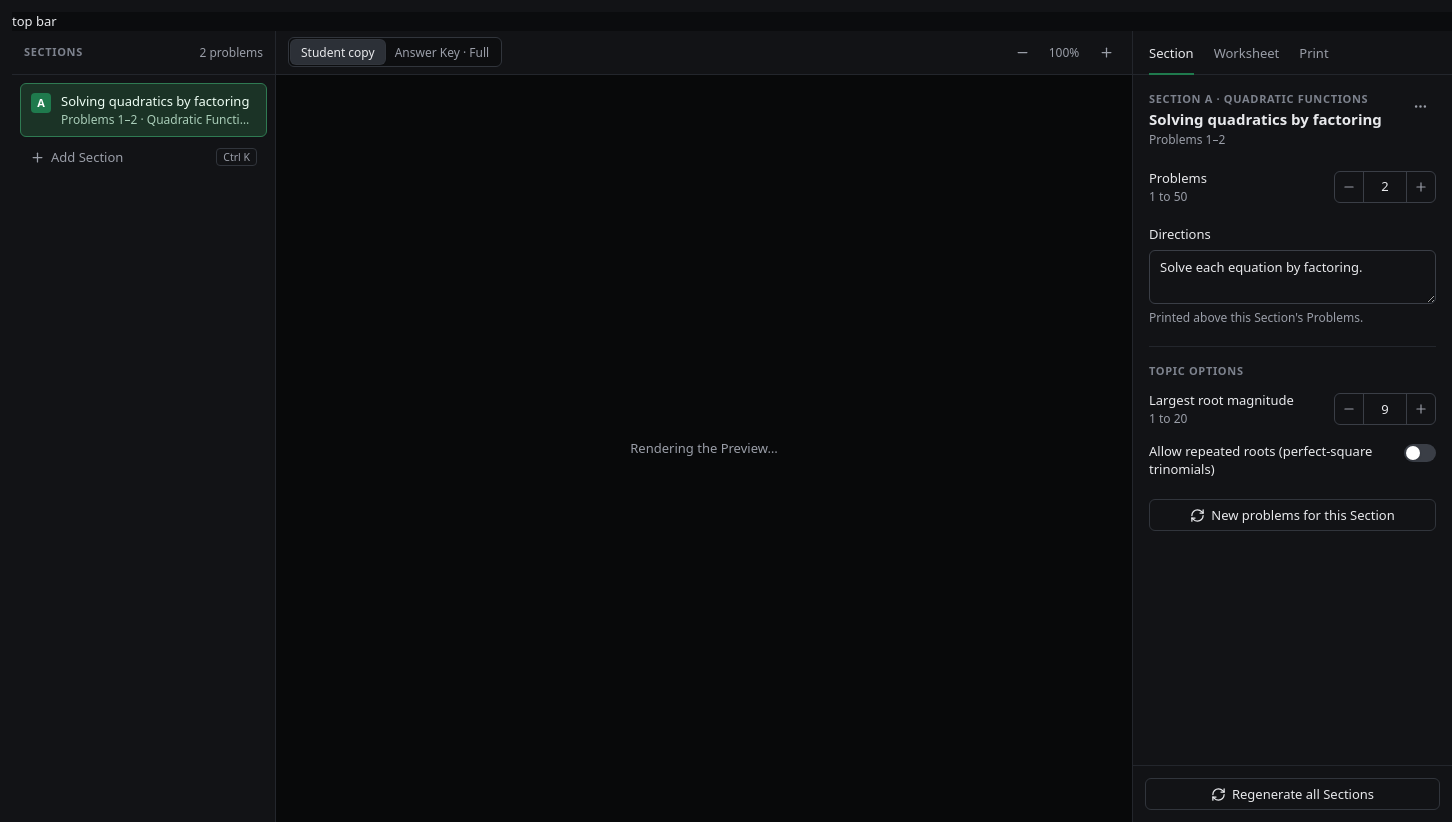
Test: Editor: Worksheet and Print tabs › keeps Section, Worksheet and Print settings on separate tabs
Expected: the tab "Section" is shown, [1149,44,1194,75]
Expected: the text "Question type" is not shown
Click the tab "Worksheet". click: [1246, 59]
box: [1214,44,1279,75]
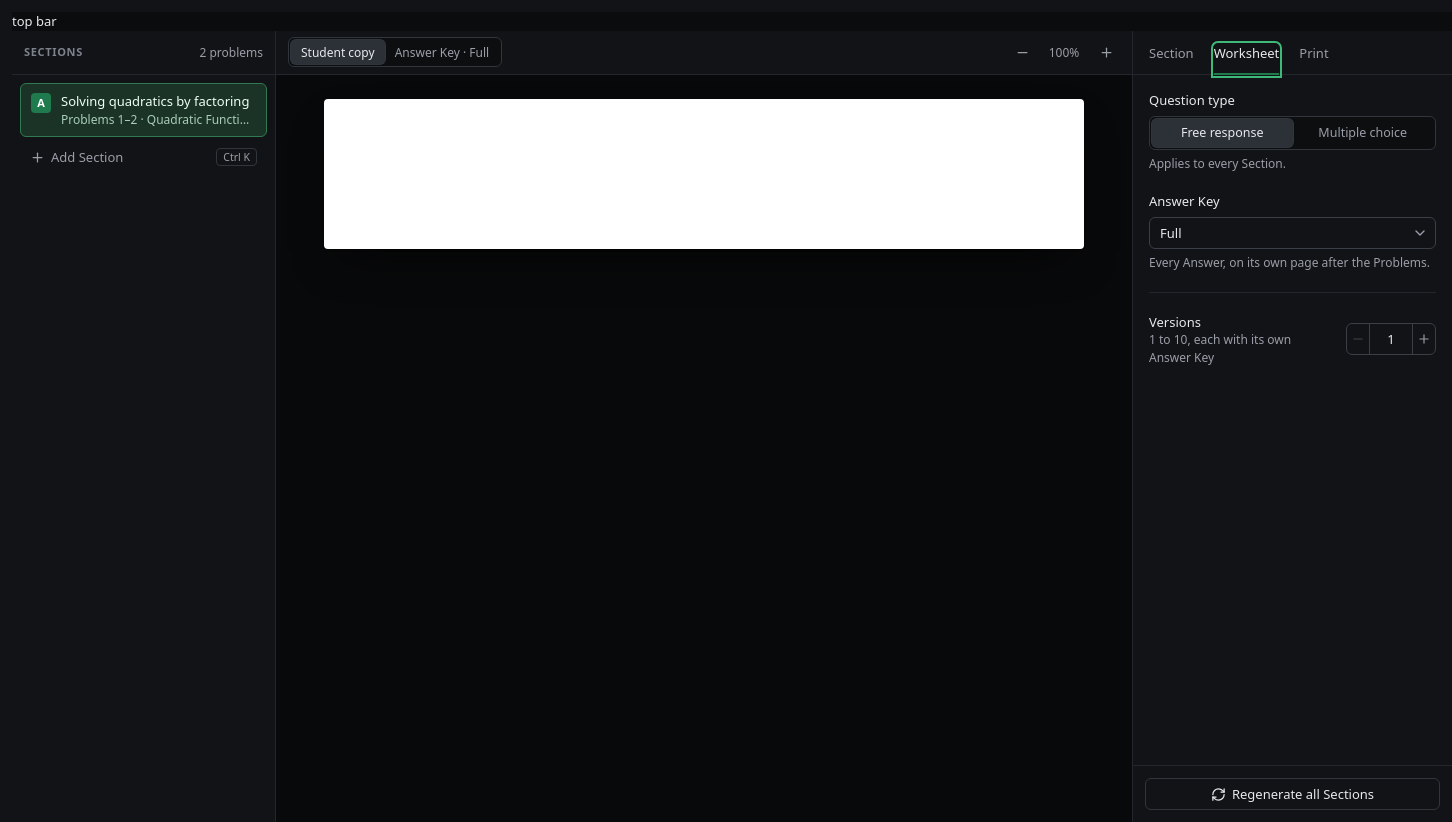
Expected: the text "Paper" is not shown
Result: the text "Question type" is shown at [1149,91,1235,109]
Result: the text "Topic Options" is gone
Click the tab "Print". click: [1314, 59]
box: [1299,44,1329,75]
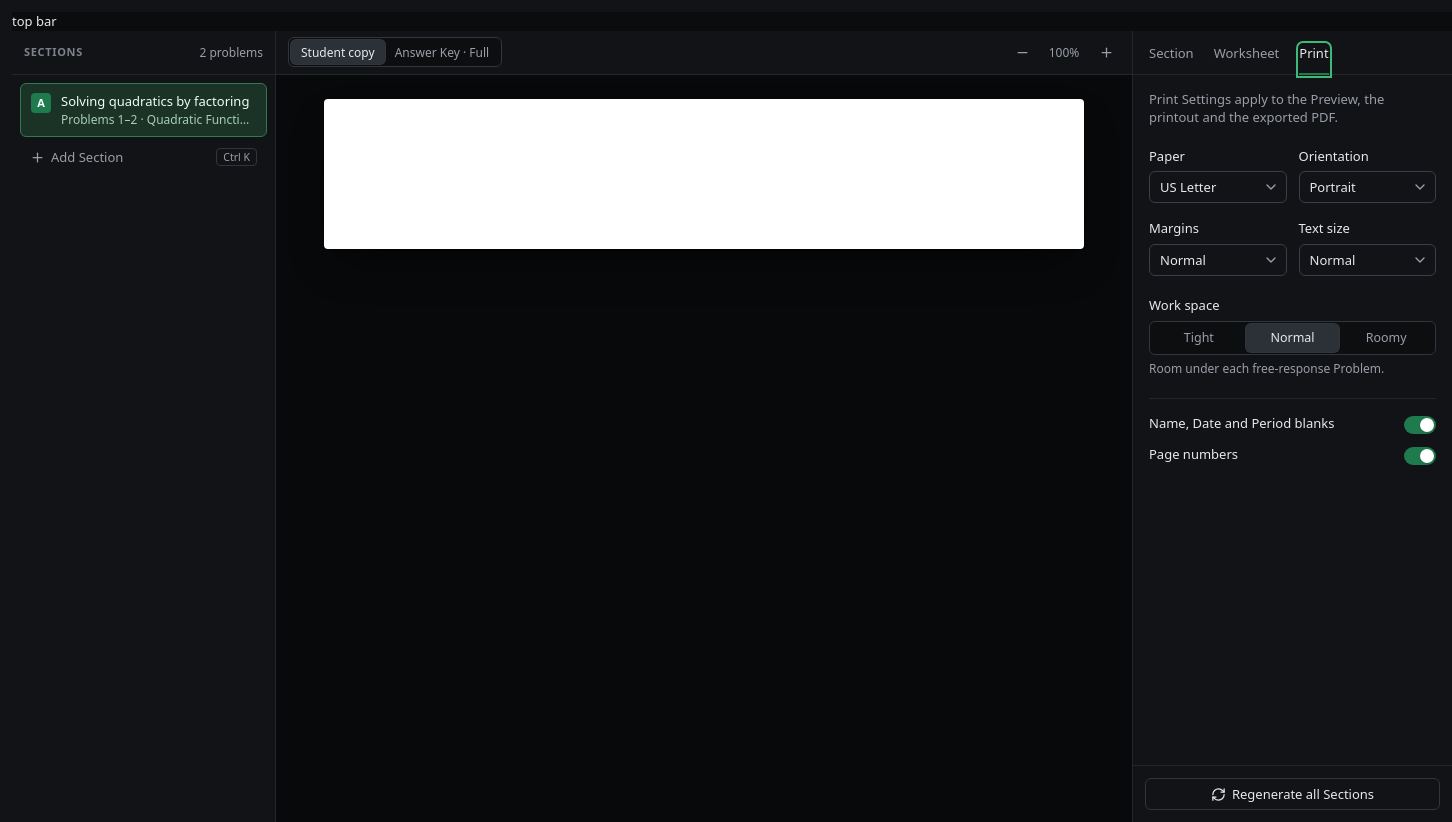
Result: the text "Paper" is shown at [1149,147,1185,165]
Result: the text "Question type" is gone
